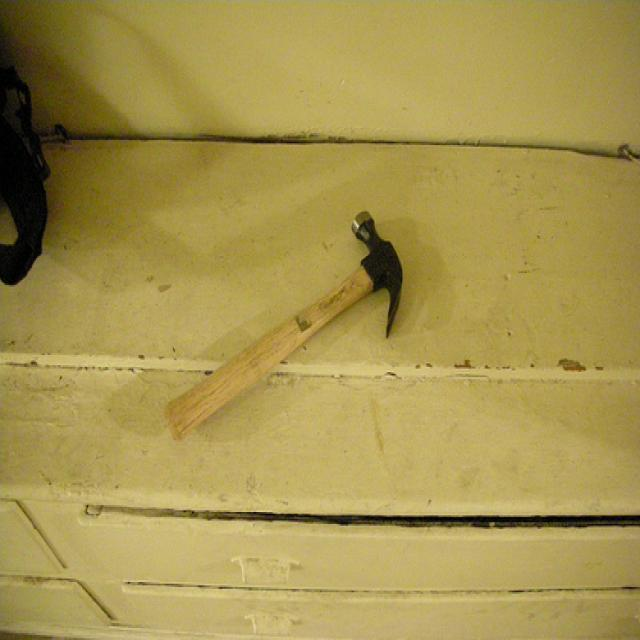hammer: (158, 198, 416, 451)
